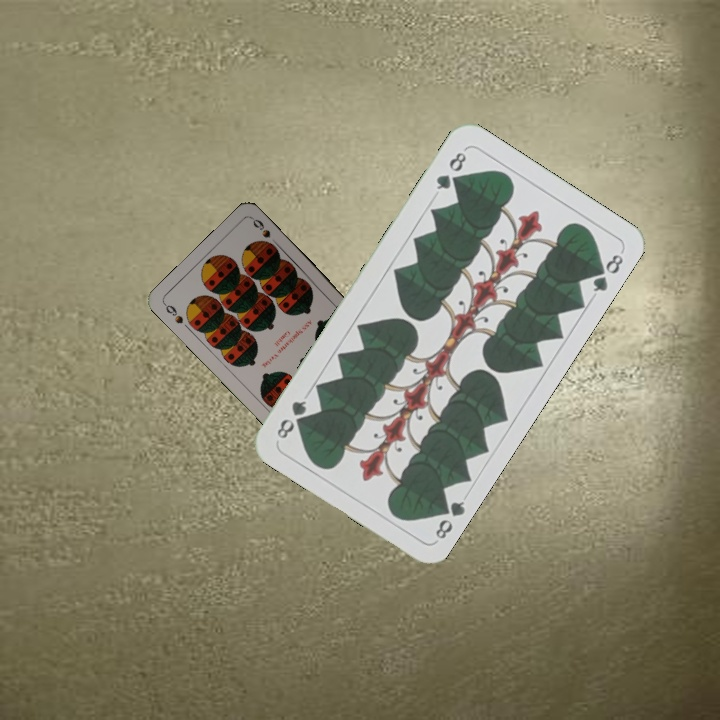G8: (431, 495, 468, 542), (432, 147, 469, 193)
S9: (160, 300, 186, 326)
